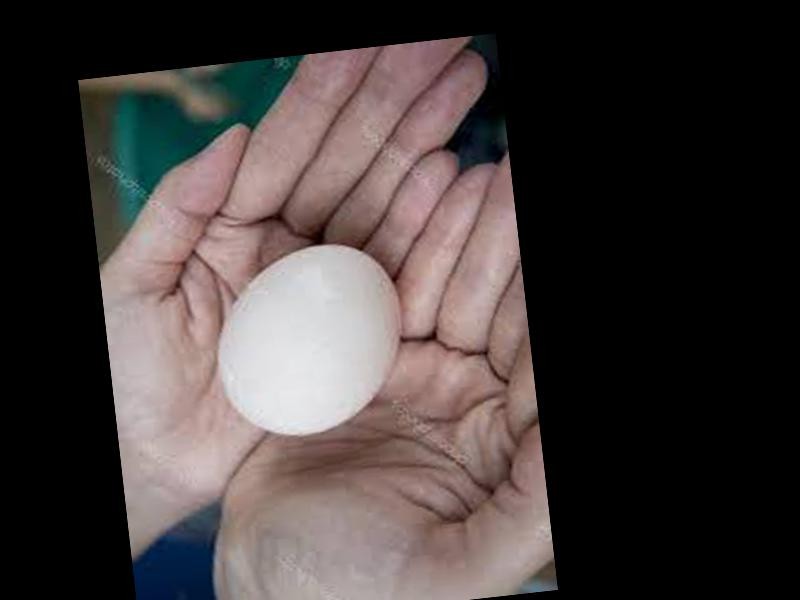Eggs: (211, 237, 407, 441)
